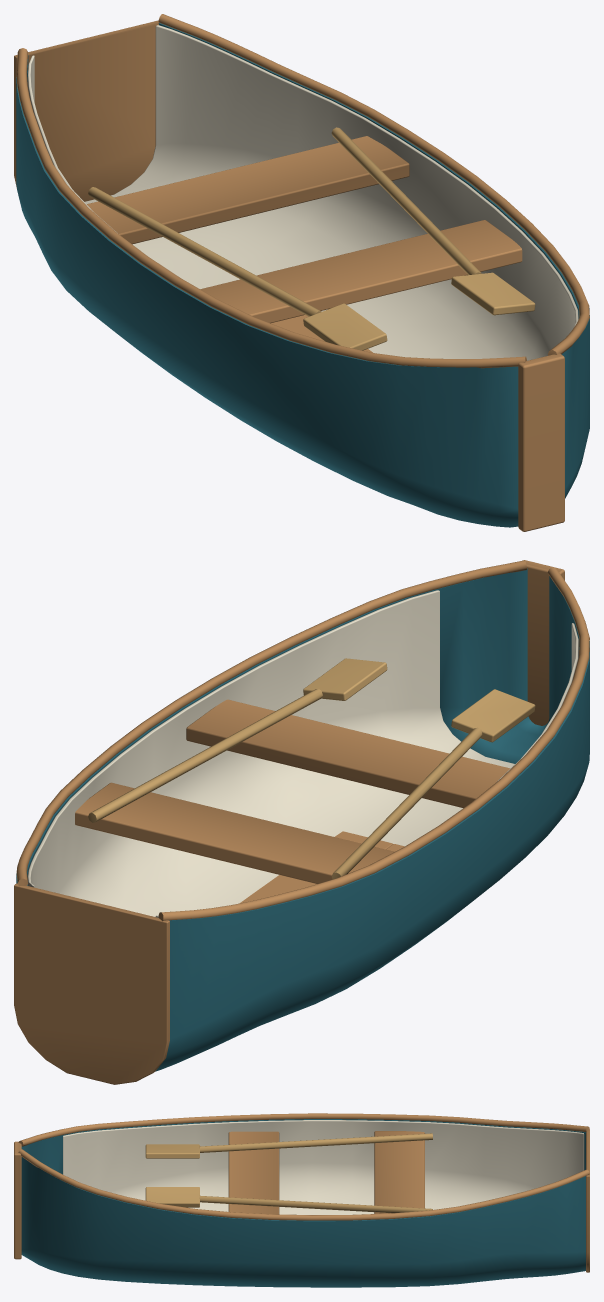
Rendered from rowingBoat.glb.
3 views of the same model, one above another, from view 1: azimuth 30°, elevation 25°; view 2: azimuth 150°, elevation 25°; view 3: azimuth 270°, elevation 25° (orthographic). The views are drawn at different scales.
Parts seen in each view (by area): view 1: rowingBoat; view 2: rowingBoat; view 3: rowingBoat.
Part boxes in pixels (left/top/right/bottom): rowingBoat: left=14, top=14, right=589, bottom=531; rowingBoat: left=14, top=560, right=589, bottom=1084; rowingBoat: left=14, top=1113, right=589, bottom=1287.
Size of the model in its own units: 1.28 by 0.6963 by 2.96.
